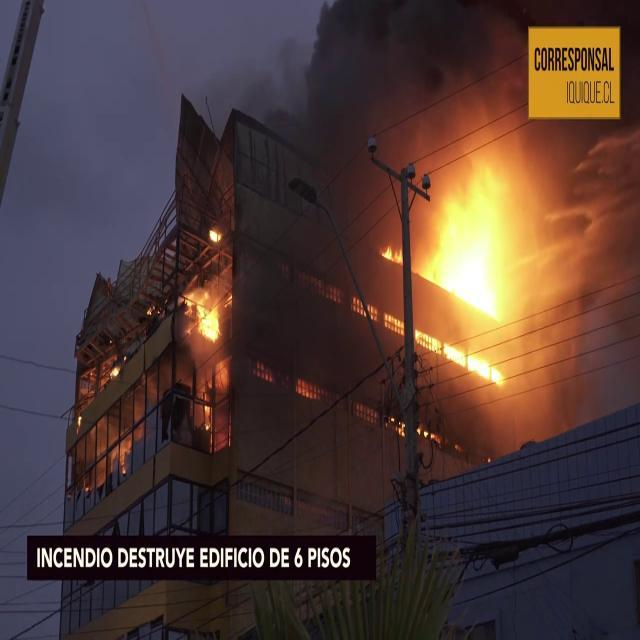Fire: (416, 156, 546, 384), (182, 288, 222, 350)
Smoke: (302, 2, 540, 232)
